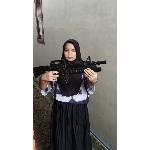Senapan: (32, 54, 108, 82)
